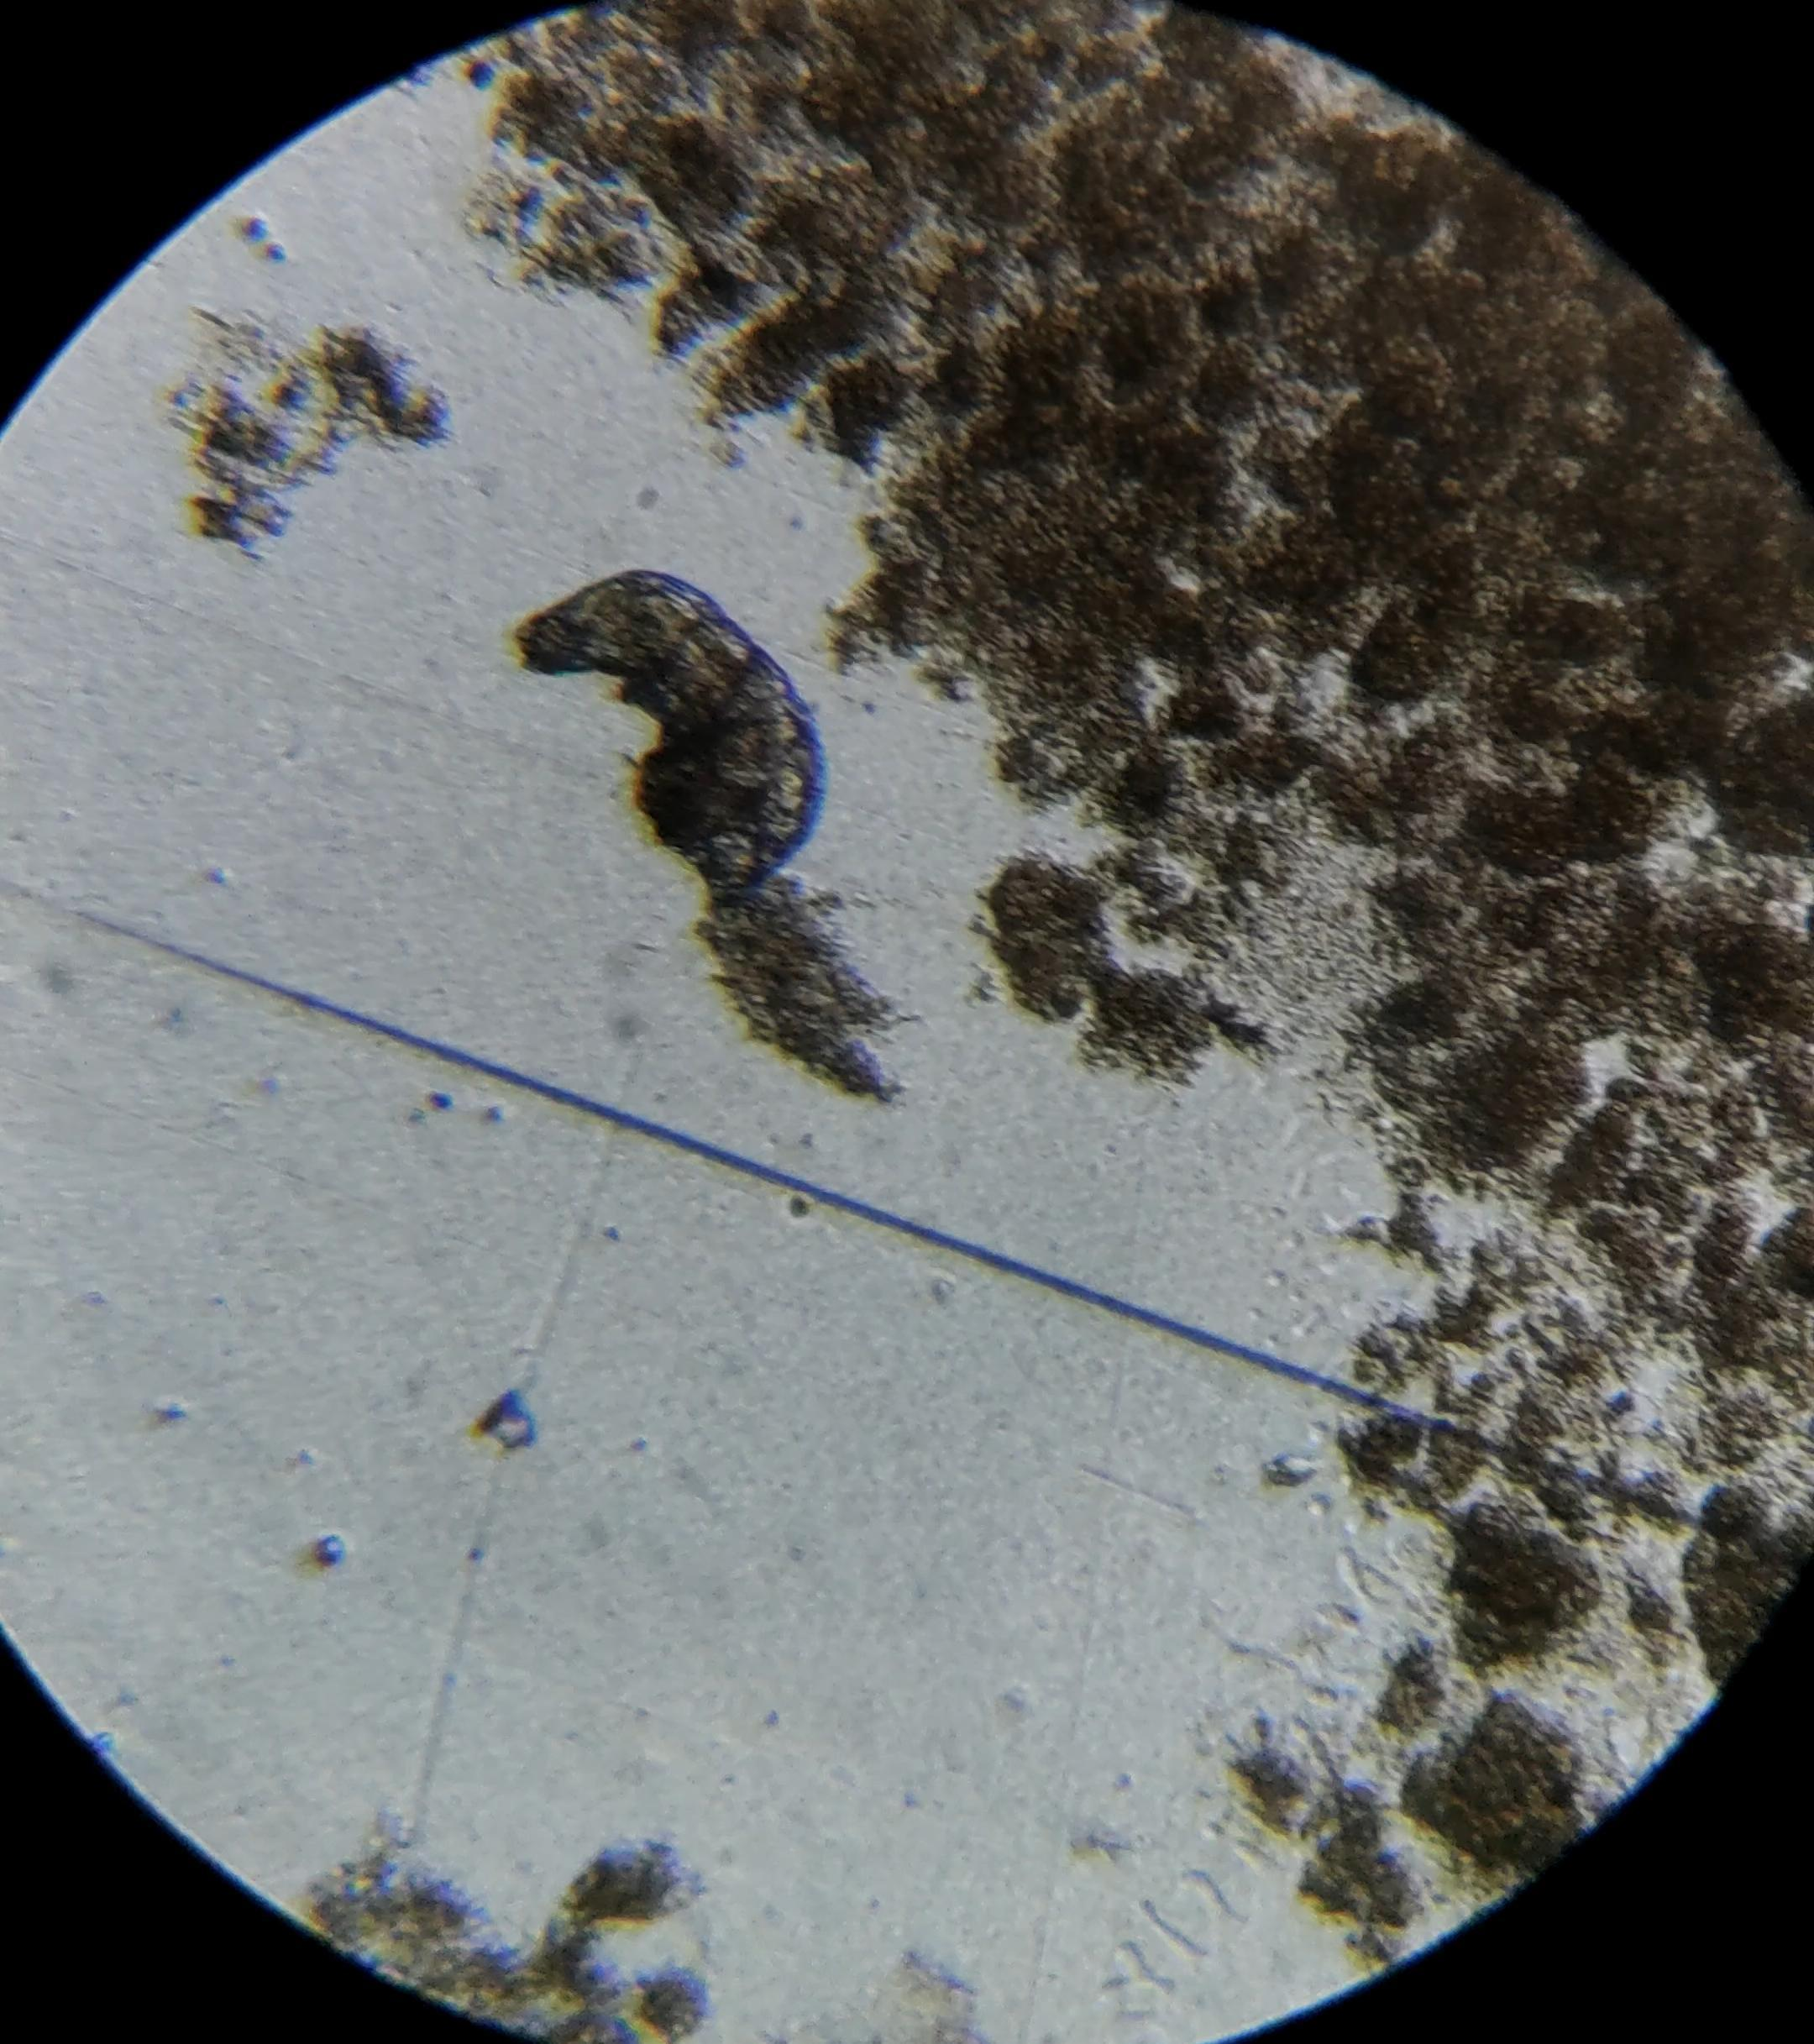Do: (518, 571, 823, 921)
